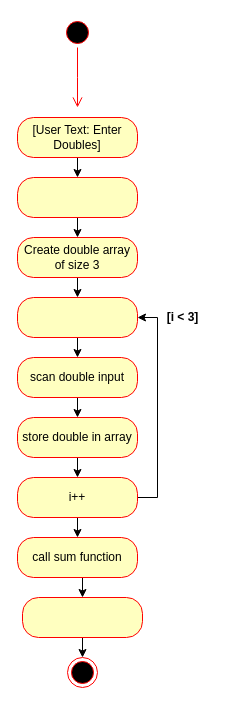
Image size: 240x705. Some labels were removed from this diagram. Each missing label, with the centre of its shape:
"Create Scanner object" belongs at pixel 77 197.
"i = 0" belongs at pixel 77 317.
"print result" belongs at pixel 82 617.
